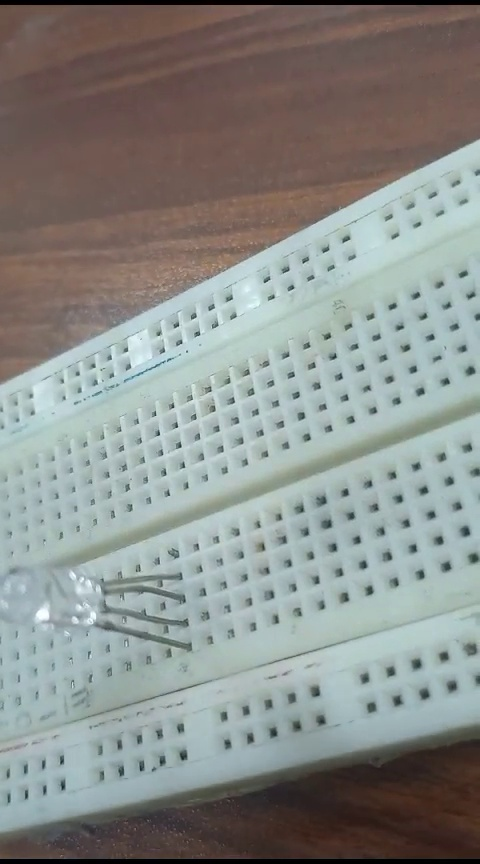LED: (1, 555, 190, 656)
